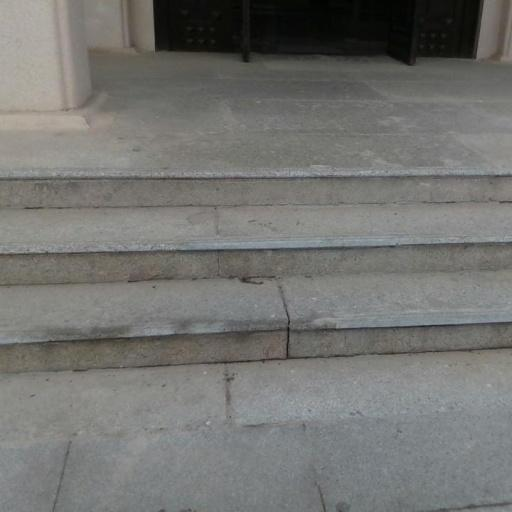stairs: (0, 169, 511, 371)
